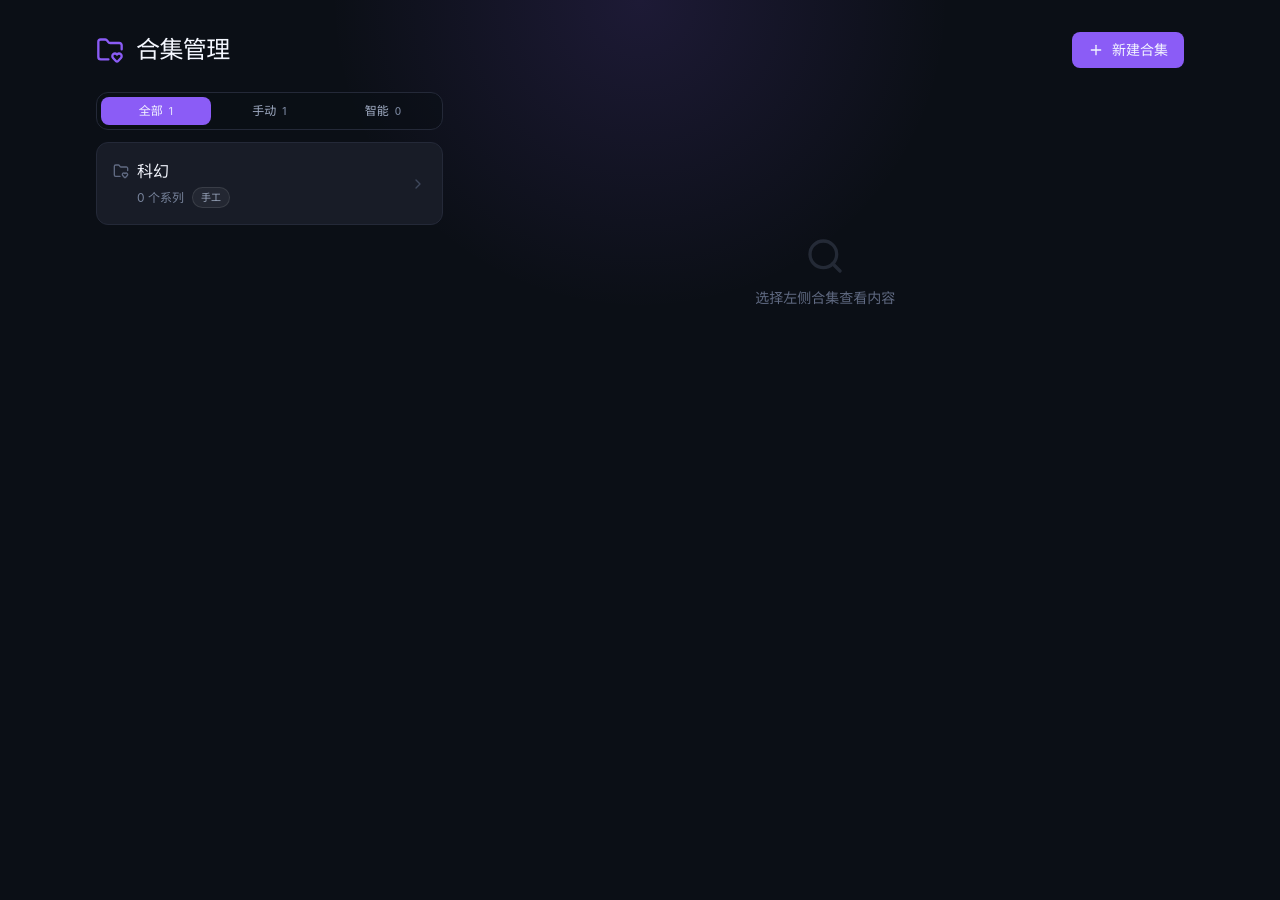
Test: 新建合集撞名 › 后端 409 时提示重名且弹窗不关
This screenshot has width=1280, height=900.
Expected: the text "科幻" is shown, [137,159,169,183]
Step 1. Click the button "新建合集" → coordinates (1128, 50), box [1072,32,1184,68]
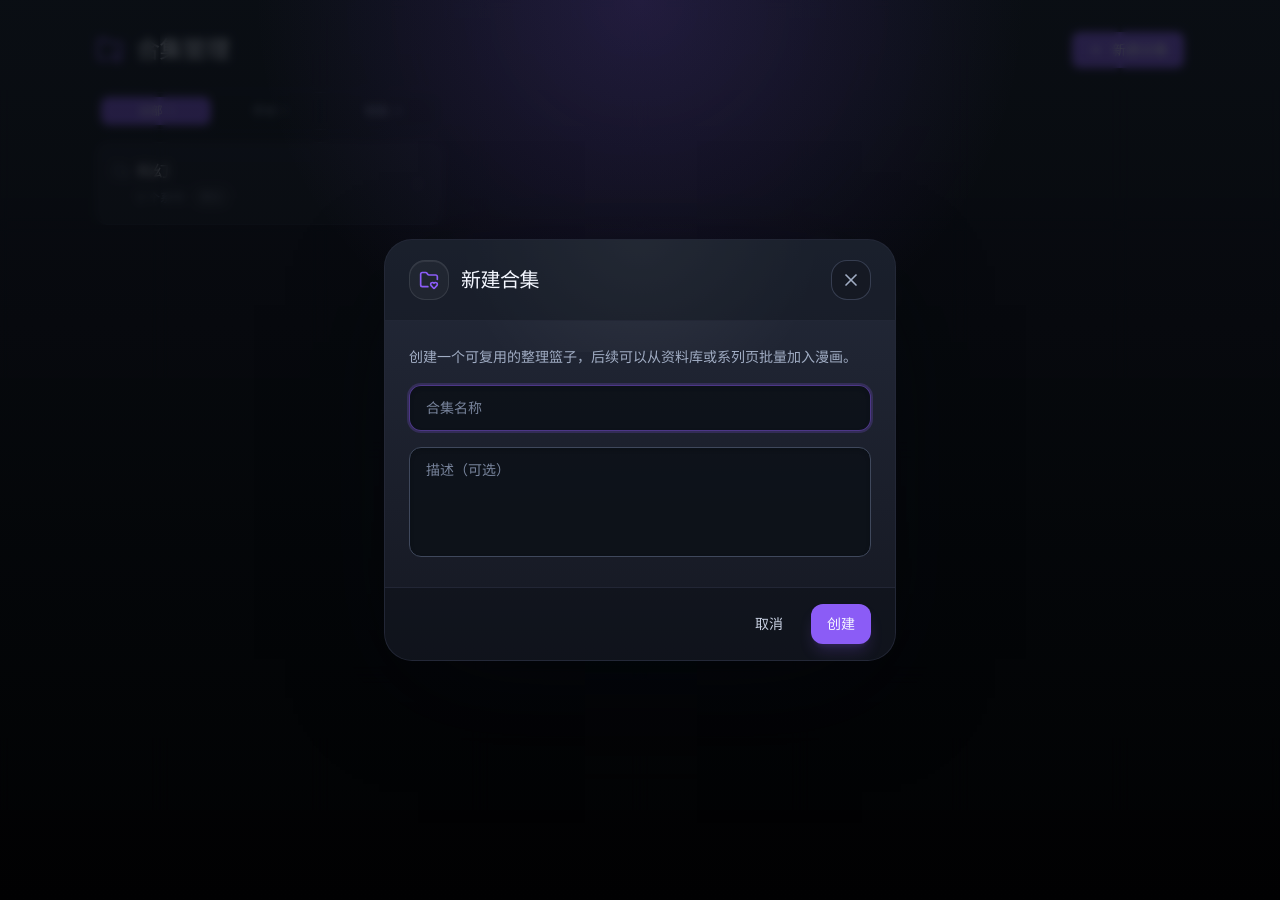
Step 2. Type " 科幻 " into the field with placeholder "合集名称" → coordinates (640, 408), box [409,385,871,431]
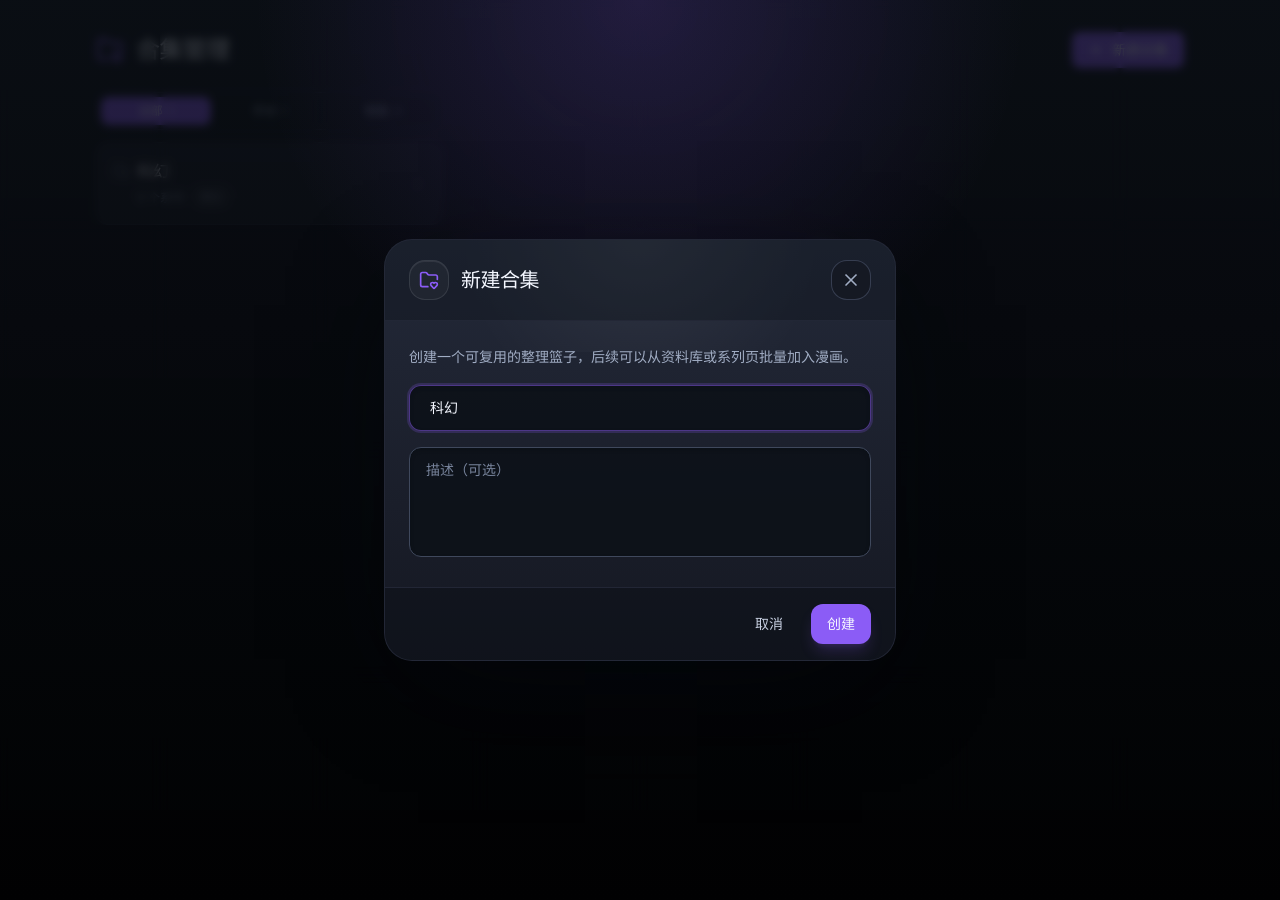
Step 3. Click the button "创建" → coordinates (841, 624), box [811,604,871,644]
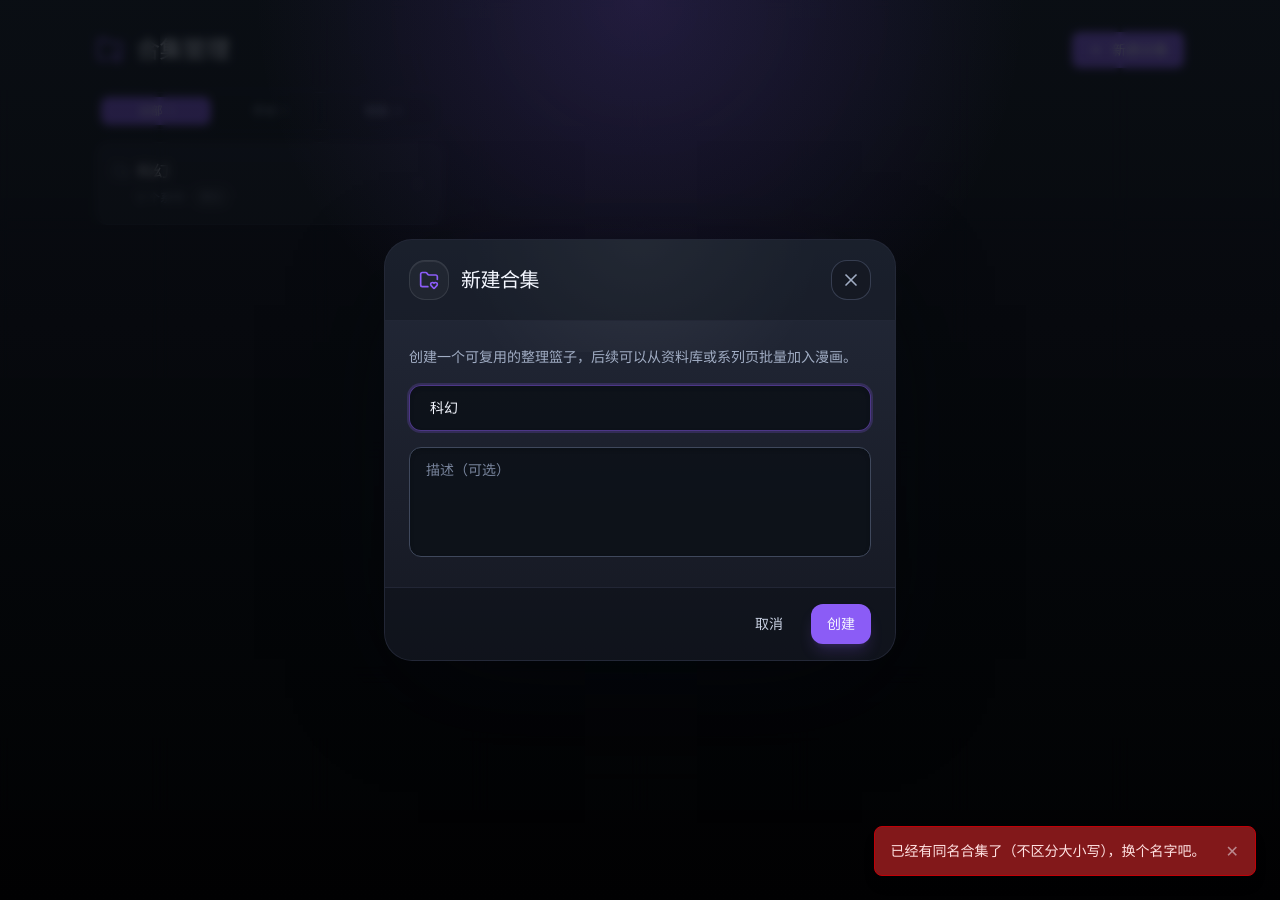
Result: the text "已经有同名合集了（不区分大小写），换个名字吧。" is shown at [891,841,1206,861]
